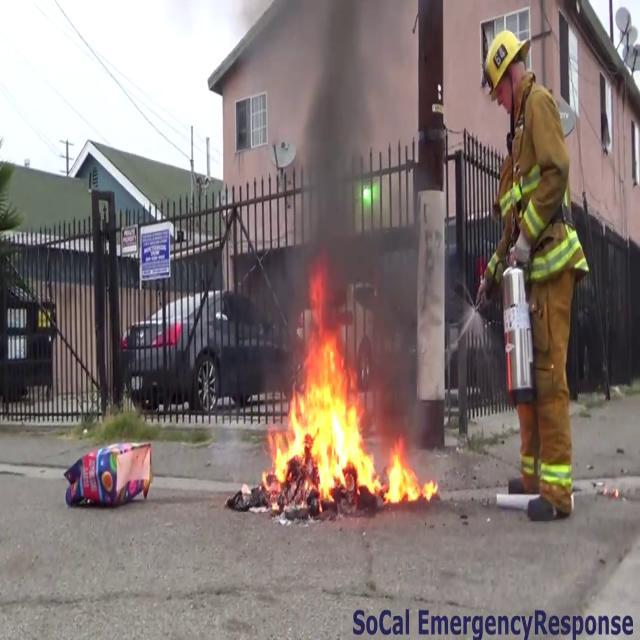Fire: (264, 317, 436, 511), (380, 440, 438, 508)
Smoke: (288, 0, 374, 326)
